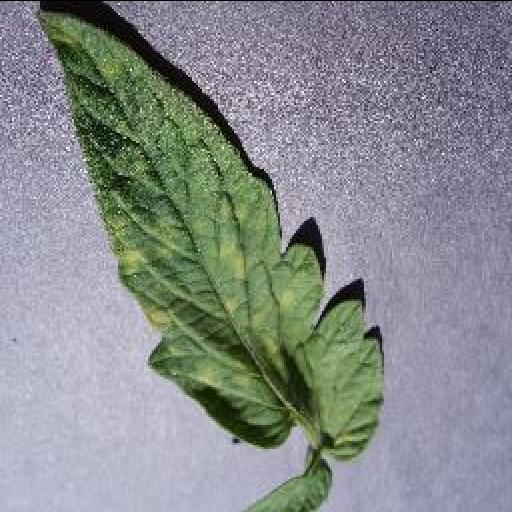disease_tomato: (32, 6, 386, 460)
